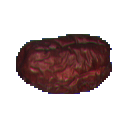ng: (10, 28, 117, 98)
